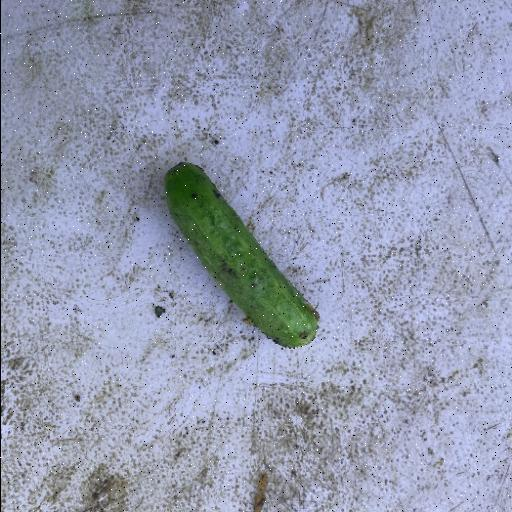Waste: (162, 159, 322, 349)
